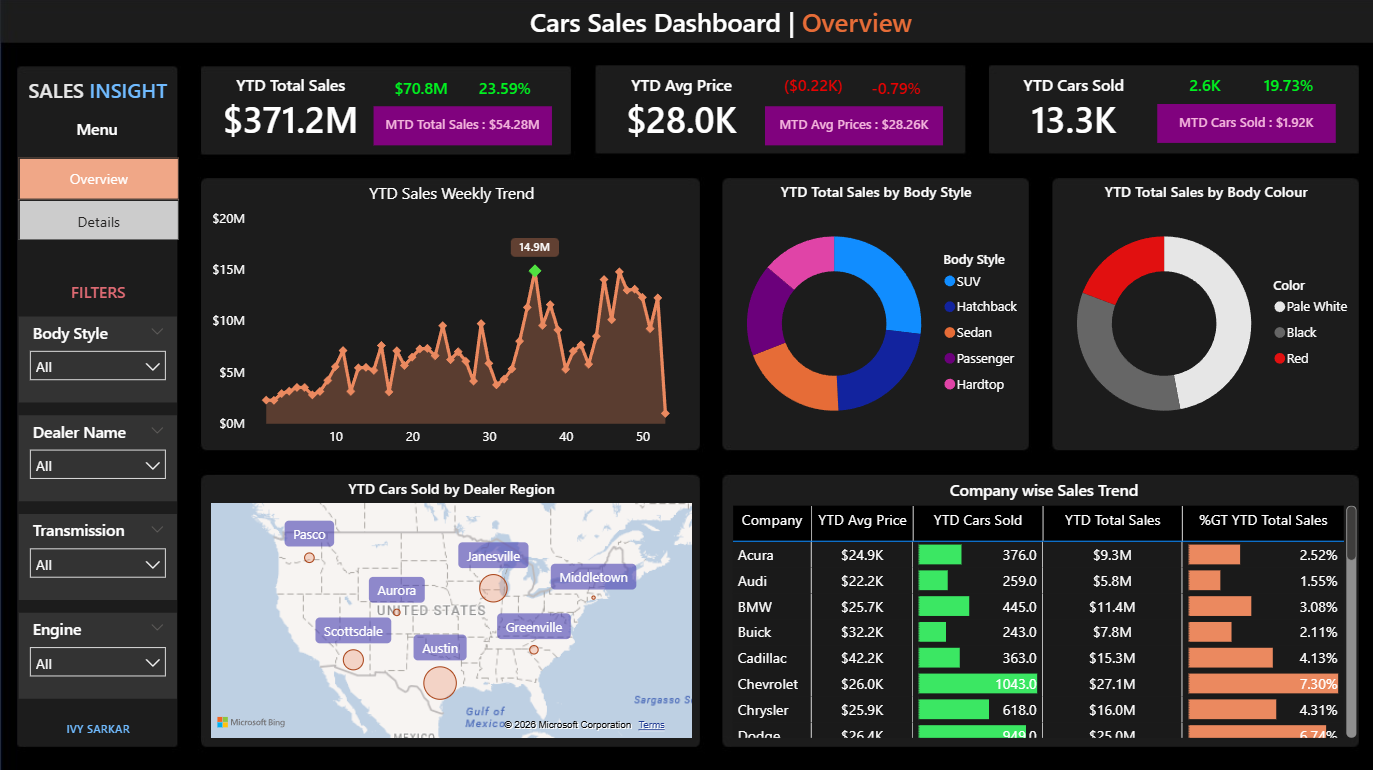

Layout of this report page (visuals, bound fields, positions):
{"tool":"powerbi","page":{"name":"Overview","canvas":[1280,720],"ordinal":0},"visuals":[{"type":"card","title":"YTD Total Sales","fields":{"Values":["car_data.YTD Total Sales"]},"box":[191.8,70,156.8,68.8],"z":0},{"type":"card","title":"YTD ToTal Sales","fields":{"Values":["car_data.Sales Differnce"]},"box":[347.6,70.3,88.4,30.3],"z":1000},{"type":"card","title":"YTD ToTal Sales","fields":{"Values":["car_data.YOY Sales Growth"]},"box":[425.1,70.3,88.4,30.3],"z":2000},{"type":"card","fields":{"Values":["car_data.MTD KPI"]},"box":[347.6,100.5,165.9,36.3],"z":3000},{"type":"card","title":"YTD Avg Price","fields":{"Values":["car_data.YTD Avg Price"]},"box":[555.9,70.3,156.2,69],"z":4000},{"type":"card","title":"YTD ToTal Sales","fields":{"Values":["car_data.Avg Price Diff"]},"box":[712.4,67.9,87.9,30.1],"z":5000},{"type":"card","title":"YTD ToTal Sales","fields":{"Values":["car_data.YOY Avg Price Growth"]},"box":[789.7,70.3,88.4,30.3],"z":6000},{"type":"card","fields":{"Values":["car_data.MTD Avg Price KPI"]},"box":[712.2,100.5,165.9,36.3],"z":7000},{"type":"card","title":"YTD Cars Sold","fields":{"Values":["car_data.YTD Cars Sold"]},"box":[920.6,70.1,155.8,69],"z":8000},{"type":"card","title":"YTD ToTal Sales","fields":{"Values":["car_data.Cars Sold Diff"]},"box":[1076.8,67.8,88.4,30.3],"z":9000},{"type":"card","title":"YTD ToTal Sales","fields":{"Values":["car_data.YOY Cars Sold Growth"]},"box":[1154.3,67.8,88.4,30.3],"z":10000},{"type":"card","fields":{"Values":["car_data.MTD Cars Sold KPI"]},"box":[1076.8,98.1,165.9,36.3],"z":11000},{"type":"areaChart","title":"YTD Sales Weekly Trend","fields":{"Category":["Calendar Table.Week"],"Y":["Sum(car_data.Price ($))","car_data.Max Point on Area Chart"]},"box":[191.4,169.6,456.6,255.6],"z":12000},{"type":"donutChart","title":"YTD Total Sales by Body Style","fields":{"Category":["car_data.Body Style"],"Y":["car_data.YTD Total Sales"]},"box":[669.8,169.6,290.7,247.1],"z":13000},{"type":"donutChart","title":"YTD Total Sales by Body Colour","fields":{"Y":["car_data.YTD Total Sales"],"Category":["car_data.Color"]},"box":[976.2,169.6,290.7,247.1],"z":14000},{"type":"map","title":"YTD Cars Sold by Dealer Region","fields":{"Category":["car_data.Dealer_Region"],"Size":["car_data.YTD Cars Sold"]},"box":[191.4,446.9,456.6,245.9],"z":15000},{"type":"tableEx","title":"Company wise Sales Trend","fields":{"Values":["car_data.Company","car_data.YTD Avg Price","car_data.YTD Cars Sold","car_data.YTD Total Sales1","car_data.YTD Total Sales"]},"box":[675.9,446.9,591.1,245.9],"z":16000},{"type":"textbox","box":[338.4,0,664.6,43.4],"z":17000},{"type":"slicer","fields":{"Values":["car_data.Body Style"]},"box":[17.4,295.1,147.2,79.6],"z":18000},{"type":"slicer","fields":{"Values":["car_data.Dealer_Name"]},"box":[17.4,387.2,147.2,79.6],"z":19000},{"type":"slicer","fields":{"Values":["car_data.Transmission"]},"box":[17.4,479.3,147.2,79.6],"z":20000},{"type":"slicer","fields":{"Values":["car_data.Engine"]},"box":[17.4,571.4,147.2,79.6],"z":21000},{"type":"textbox","box":[4.6,256.7,173.7,30.2],"z":22000},{"type":"textbox","box":[16.9,67.6,147.2,37.4],"z":23000},{"type":"textbox","box":[3.6,106.2,173.7,30.2],"z":24000},{"type":"pageNavigator","box":[16.9,147.2,149.6,76],"z":25000},{"type":"textbox","box":[17.4,664,147.7,37.2],"z":26000}]}

Visuals, with their boxes in screenshot pixels (x1, y1, x2, y2), scaled from the page's 1280x720 canvas onto the 1373x770 screenshot:
"YTD Total Sales" card: [left=206, top=75, right=374, bottom=148]
"YTD ToTal Sales" card: [left=373, top=75, right=468, bottom=108]
"YTD ToTal Sales" card: [left=456, top=75, right=551, bottom=108]
card - car_data.MTD KPI: [left=373, top=107, right=551, bottom=146]
"YTD Avg Price" card: [left=596, top=75, right=764, bottom=149]
"YTD ToTal Sales" card: [left=764, top=73, right=858, bottom=105]
"YTD ToTal Sales" card: [left=847, top=75, right=942, bottom=108]
card - car_data.MTD Avg Price KPI: [left=764, top=107, right=942, bottom=146]
"YTD Cars Sold" card: [left=987, top=75, right=1155, bottom=149]
"YTD ToTal Sales" card: [left=1155, top=73, right=1250, bottom=105]
"YTD ToTal Sales" card: [left=1238, top=73, right=1333, bottom=105]
card - car_data.MTD Cars Sold KPI: [left=1155, top=105, right=1333, bottom=144]
"YTD Sales Weekly Trend" areaChart: [left=205, top=181, right=695, bottom=455]
"YTD Total Sales by Body Style" donutChart: [left=718, top=181, right=1030, bottom=446]
"YTD Total Sales by Body Colour" donutChart: [left=1047, top=181, right=1359, bottom=446]
"YTD Cars Sold by Dealer Region" map: [left=205, top=478, right=695, bottom=741]
"Company wise Sales Trend" tableEx: [left=725, top=478, right=1359, bottom=741]
textbox: [left=363, top=0, right=1076, bottom=46]
slicer - car_data.Body Style: [left=19, top=316, right=177, bottom=401]
slicer - car_data.Dealer_Name: [left=19, top=414, right=177, bottom=499]
slicer - car_data.Transmission: [left=19, top=513, right=177, bottom=598]
slicer - car_data.Engine: [left=19, top=611, right=177, bottom=696]
textbox: [left=5, top=275, right=191, bottom=307]
textbox: [left=18, top=72, right=176, bottom=112]
textbox: [left=4, top=114, right=190, bottom=146]
pageNavigator: [left=18, top=157, right=179, bottom=239]
textbox: [left=19, top=710, right=177, bottom=750]
